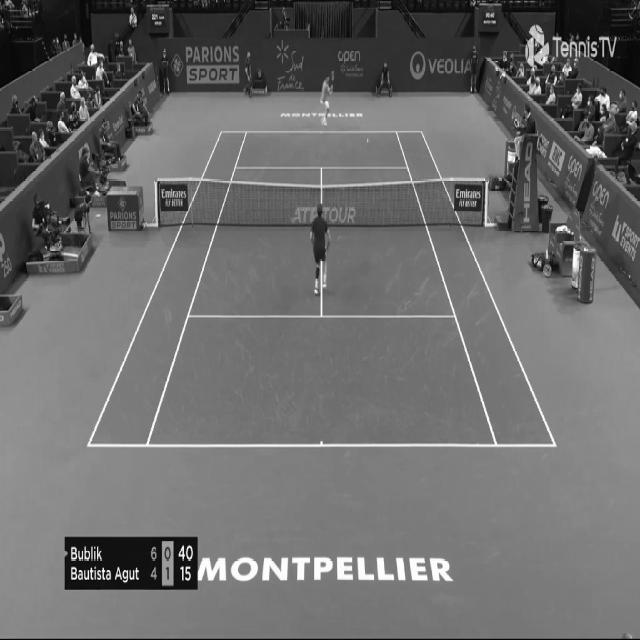tennis-court: (86, 131, 558, 447)
